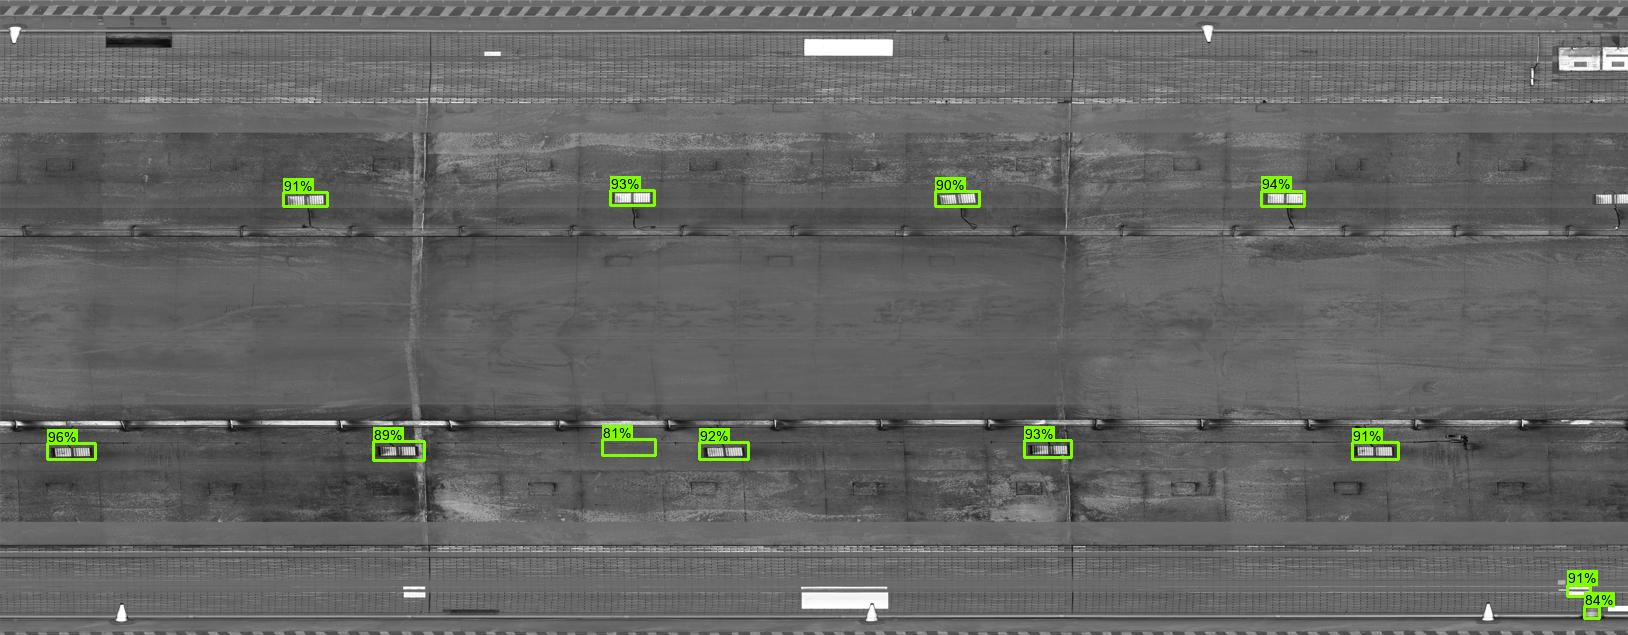light: (606, 188, 654, 208), (1261, 188, 1309, 208), (46, 443, 94, 462), (1349, 442, 1398, 461), (280, 192, 328, 211), (375, 442, 423, 461), (701, 443, 749, 462), (931, 189, 979, 208), (1024, 441, 1071, 460), (1588, 190, 1628, 208)
